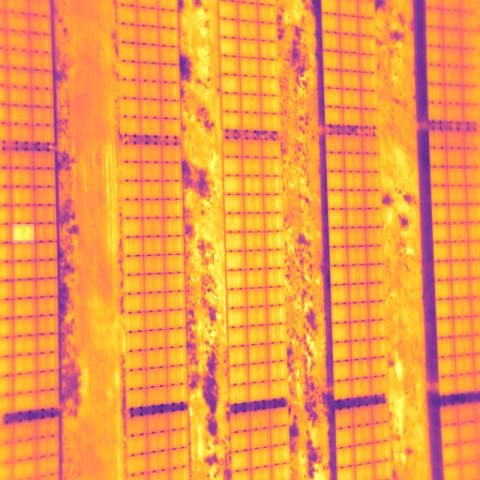fault: (12, 224, 34, 243)
